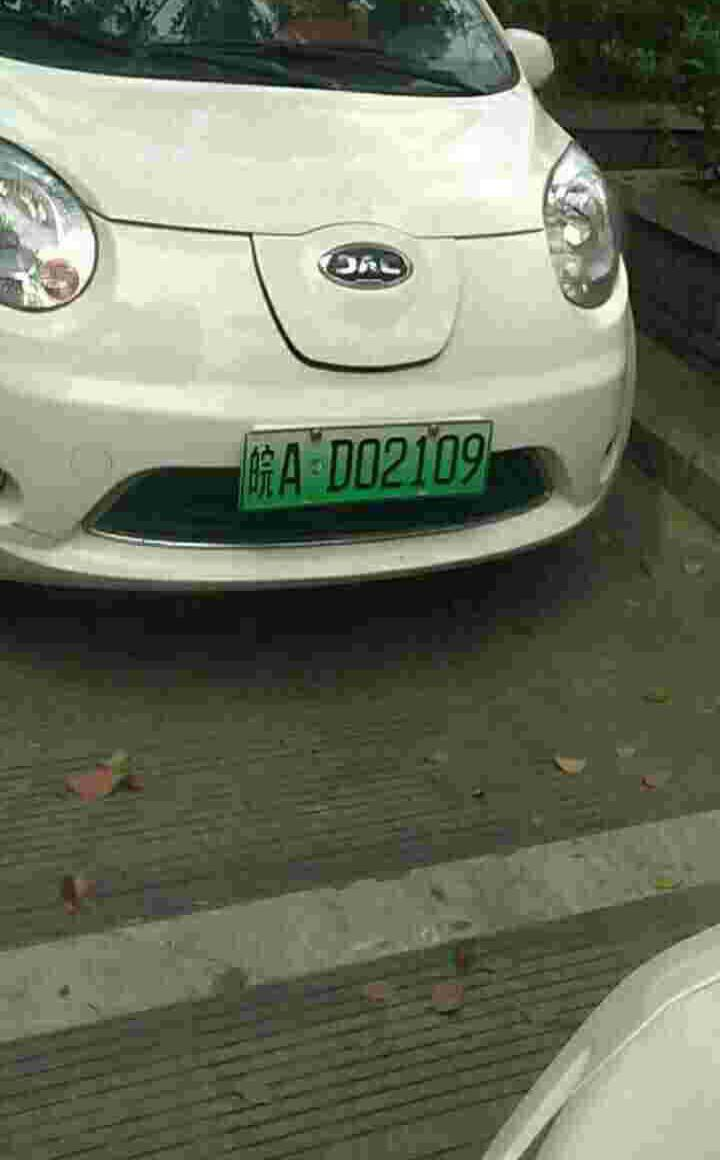car_green: (228, 423, 500, 514)
